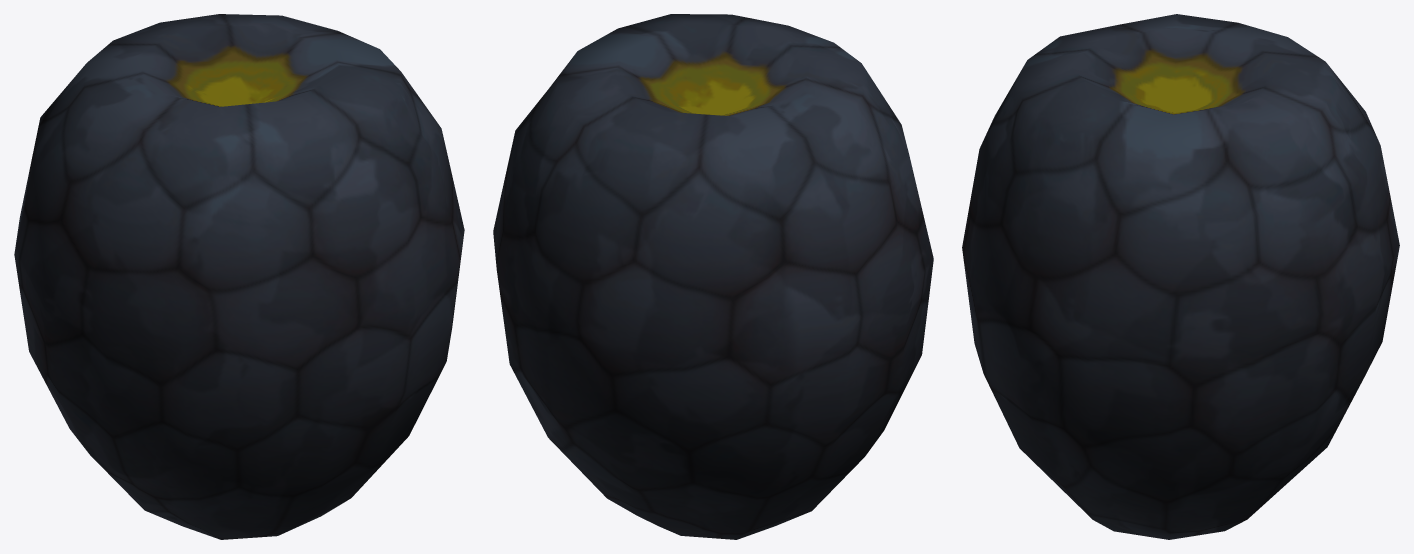
The model's file is SM_BlackberryA.fbx.
3 renders of one model, left to right at view 1: azimuth 30°, elevation 25°; view 2: azimuth 150°, elevation 25°; view 3: azimuth 270°, elevation 25°, orthographic.
Visible parts, largest first — view 1: SM_BlackberryA; view 2: SM_BlackberryA; view 3: SM_BlackberryA.
Boxes of the visible parts, x1=… form: SM_BlackberryA: x1=14, y1=14, x2=464, y2=539; SM_BlackberryA: x1=493, y1=14, x2=933, y2=539; SM_BlackberryA: x1=962, y1=14, x2=1399, y2=539.
Bounding box in the file's own units: 5 × 5.57 × 4.87.
